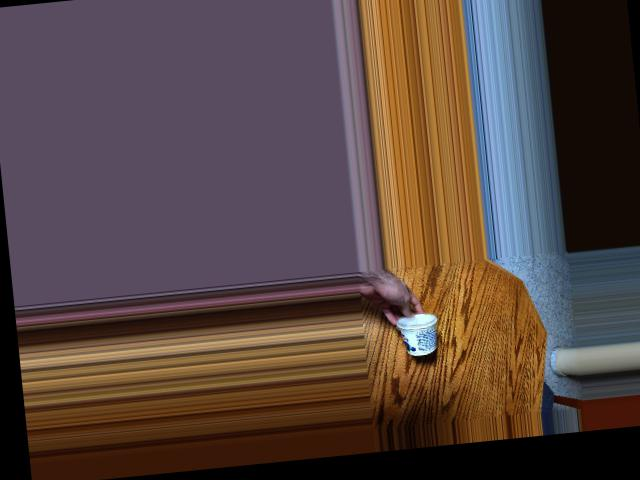cotage: (392, 309, 439, 356)
